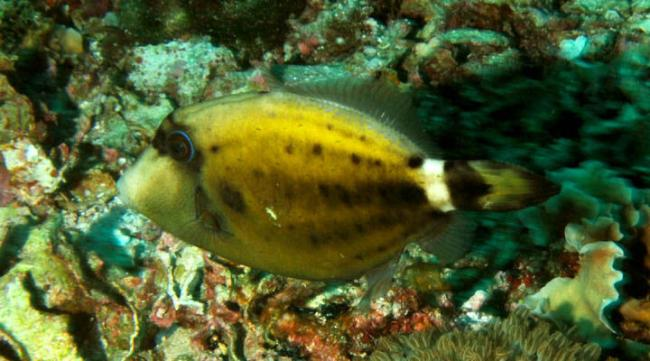fish: (118, 74, 564, 285)
